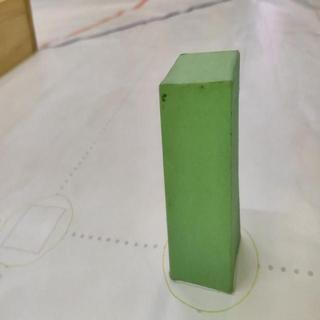greenbox: (158, 49, 242, 293)
